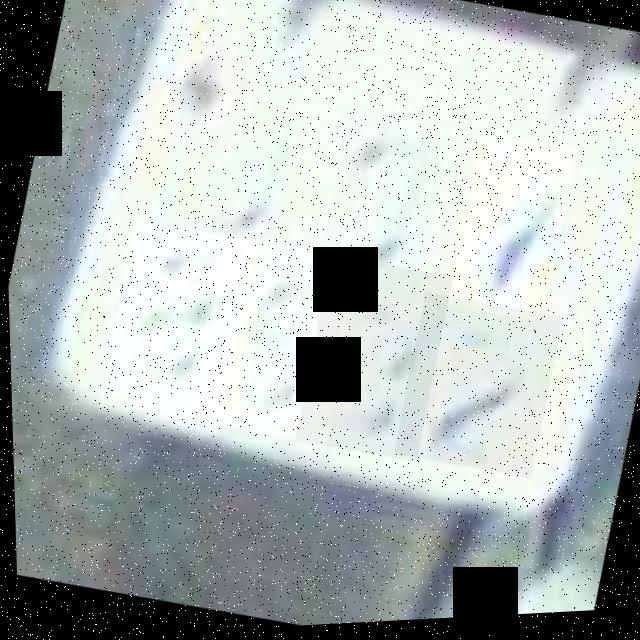2: (387, 291, 564, 489)
5: (89, 216, 259, 442)
E: (287, 253, 455, 471), (201, 234, 366, 454)
N: (441, 133, 579, 330)
